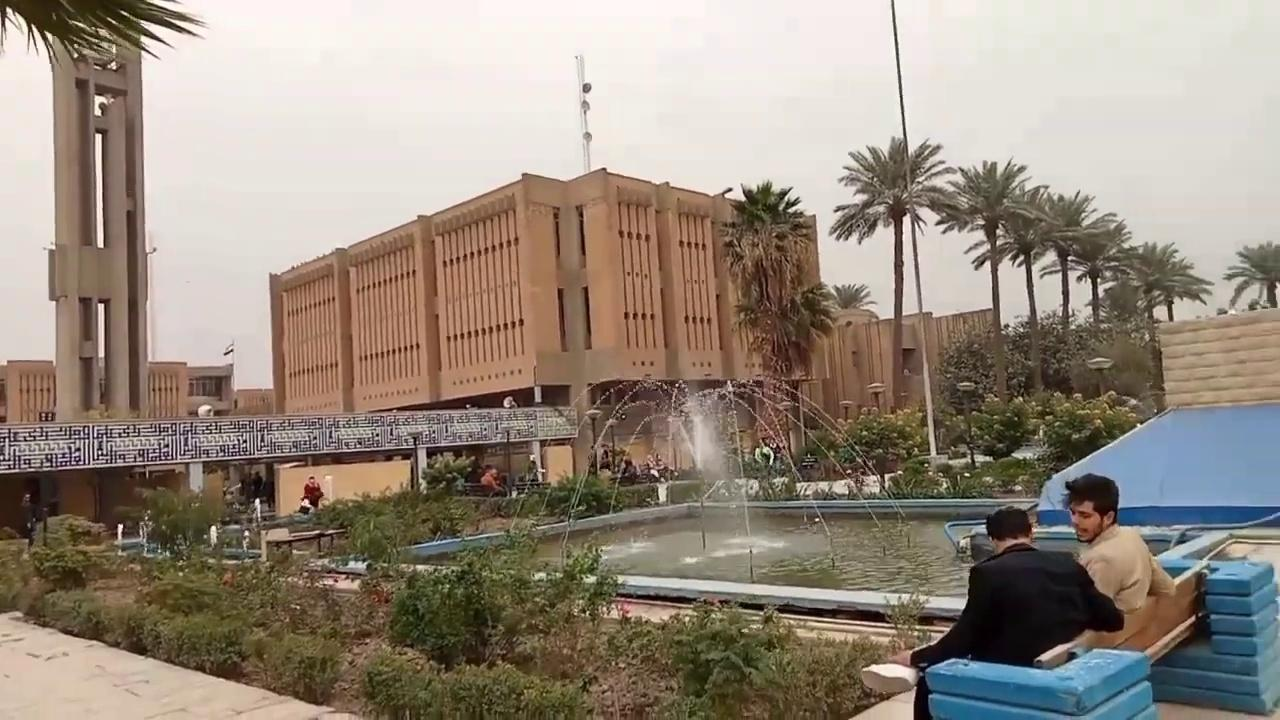fountain: (380, 372, 1053, 616), (558, 374, 911, 589)
person: (887, 505, 1125, 719), (1060, 472, 1176, 660), (20, 492, 38, 551), (480, 464, 506, 494), (303, 475, 323, 509), (754, 436, 774, 468), (251, 471, 264, 499)
tree: (828, 133, 956, 447), (714, 178, 836, 469), (933, 156, 1045, 402), (1119, 239, 1214, 411), (0, 0, 209, 71), (999, 183, 1059, 395), (1033, 188, 1100, 333), (1067, 212, 1134, 339), (1124, 239, 1213, 322), (1222, 239, 1279, 309), (829, 282, 877, 311)
